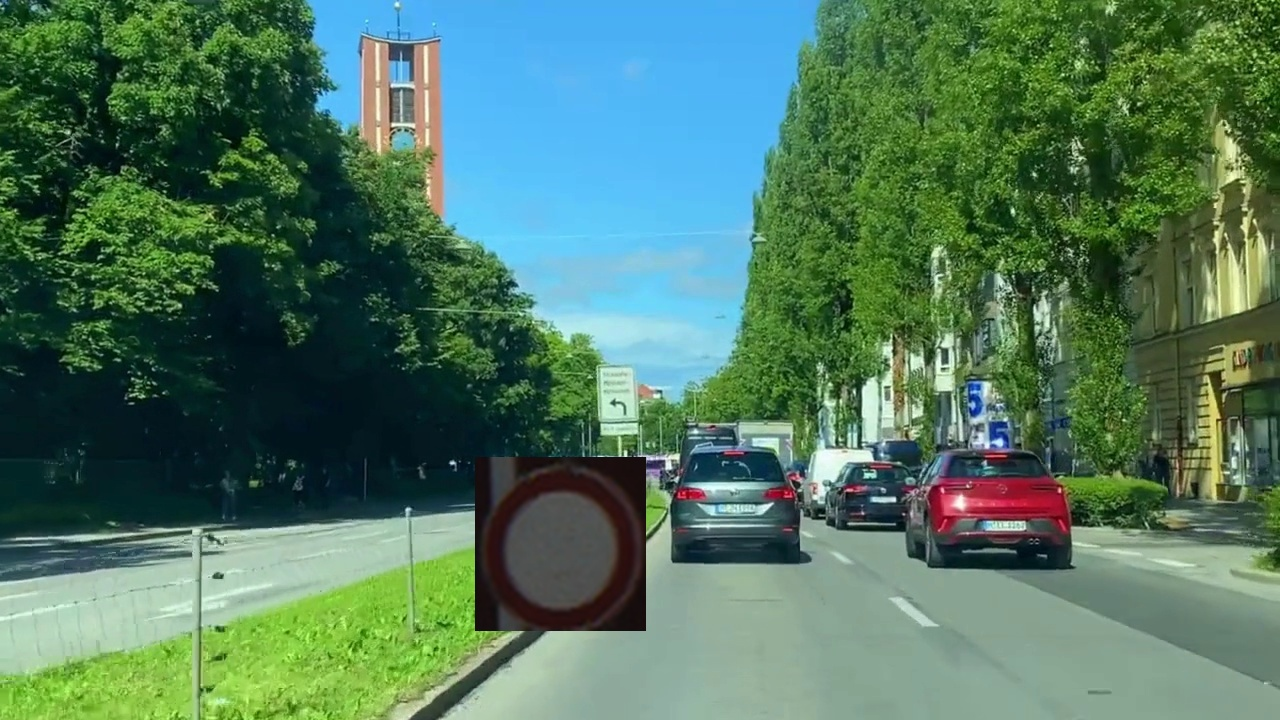No vehicles: (475, 457, 646, 631)
